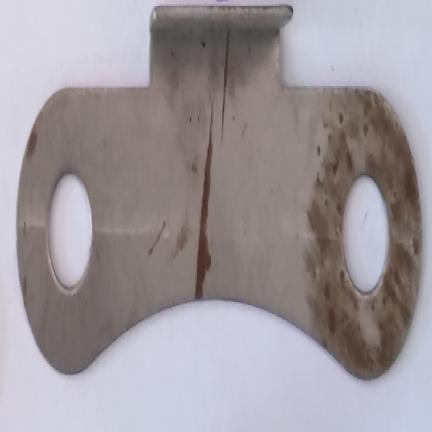besi_tidak_karat: (16, 5, 422, 379)
